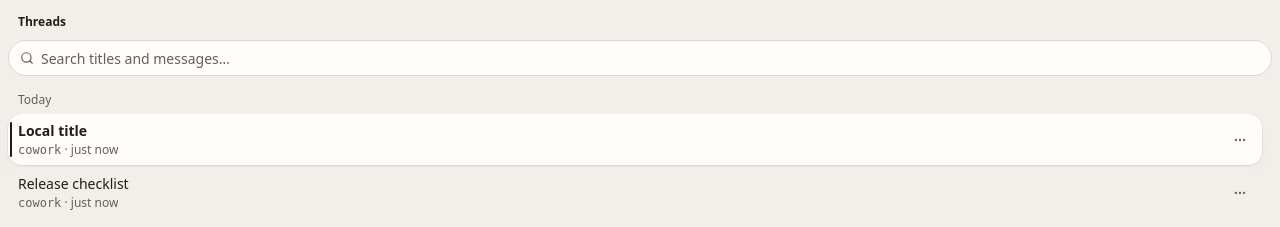
Scenario: searching message text › says the message search failed rather than that nothing matched
In the search field named "Search threads": (640, 58) [8, 40, 1272, 76], type "zzz"
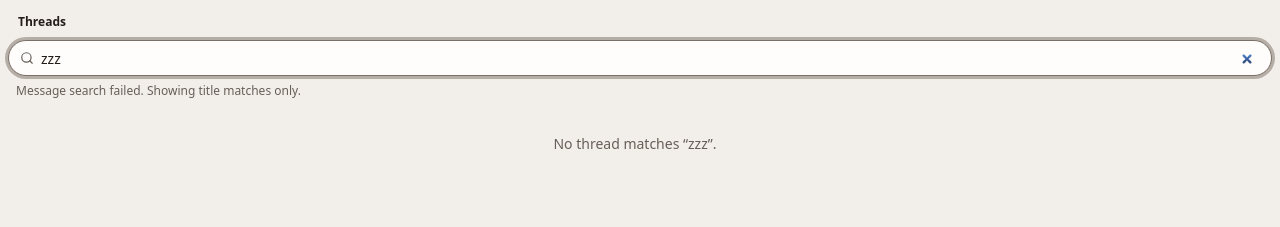
Check: the text "Message search failed. Showing title matches only." is shown, box [16, 82, 301, 99]
